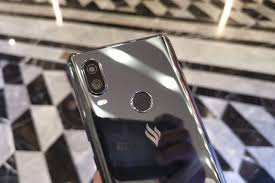vsmart: (58, 28, 229, 183)
